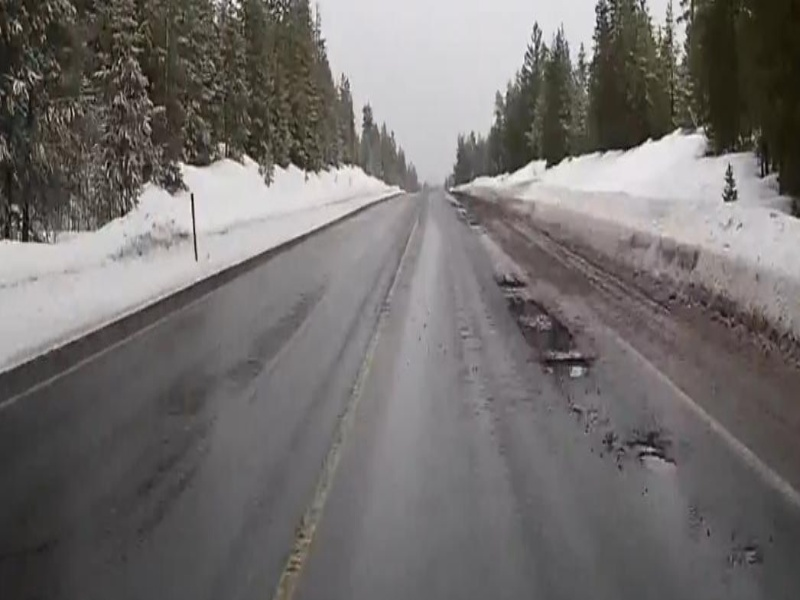pothole: (503, 298, 580, 350), (532, 355, 601, 384), (627, 437, 677, 477), (491, 278, 528, 291)
